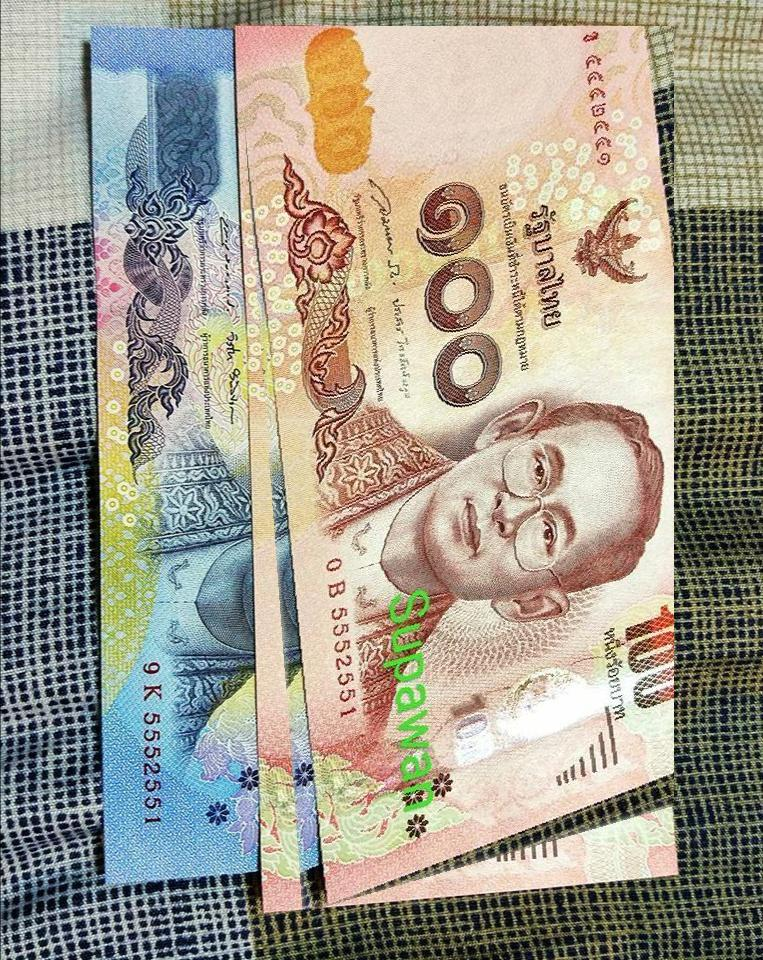100BahtTai: (238, 27, 675, 914)
